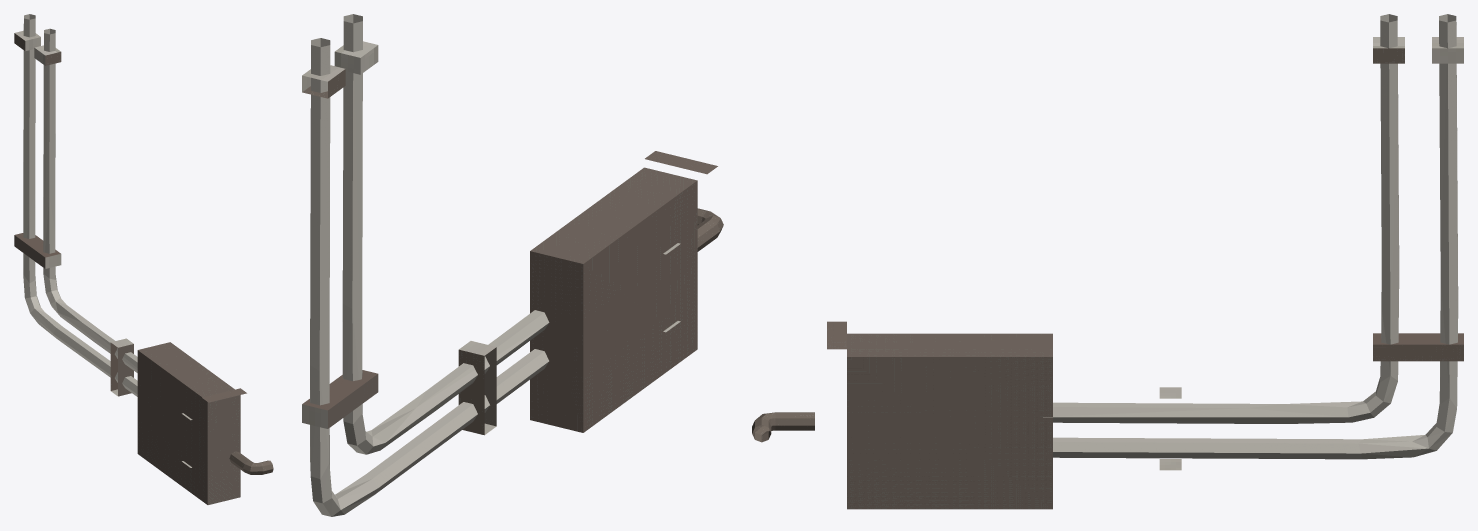
3 views of the same model, side by side, from view 1: azimuth 30°, elevation 25°; view 2: azimuth 150°, elevation 25°; view 3: azimuth 270°, elevation 25° (orthographic). The views are drawn at different scales.
Bounding box in the file's own units: 0.0794 × 0.6492 × 0.8469.
